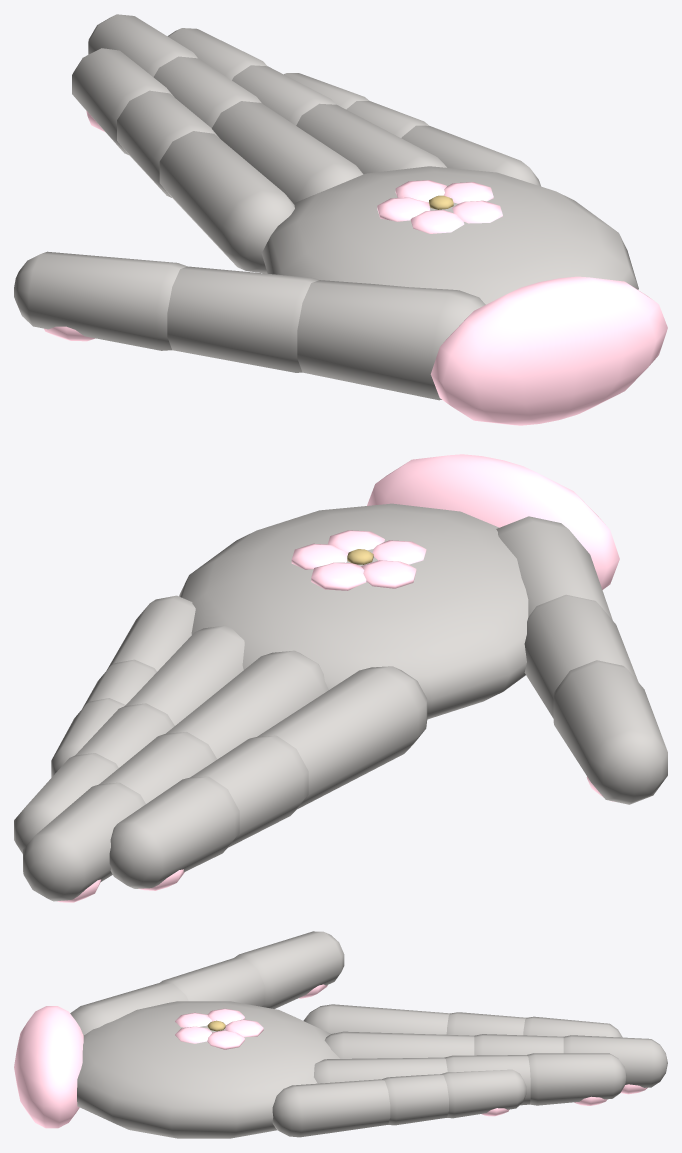
Rendered from cafe-hand.glb.
3 views of the same model, one above another, from view 1: azimuth 30°, elevation 25°; view 2: azimuth 150°, elevation 25°; view 3: azimuth 270°, elevation 25° (orthographic). The views are drawn at different scales.
Parts seen in each view (by area): view 1: wrist, thumb-metacarpal, thumb-phalanx-distal, thumb-phalanx-proximal, index-finger-phalanx-proximal, middle-finger-phalanx-proximal, ring-finger-phalanx-proximal, index-finger-phalanx-intermediate, index-finger-phalanx-distal, middle-finger-phalanx-intermediate, middle-finger-phalanx-distal, pinky-finger-phalanx-proximal (+4 smaller); view 2: wrist, index-finger-phalanx-proximal, thumb-phalanx-distal, index-finger-phalanx-distal, middle-finger-phalanx-proximal, middle-finger-phalanx-distal, thumb-phalanx-proximal, index-finger-phalanx-intermediate, thumb-metacarpal, ring-finger-phalanx-proximal, middle-finger-phalanx-intermediate, ring-finger-phalanx-distal (+4 smaller); view 3: wrist, pinky-finger-phalanx-proximal, thumb-phalanx-distal, ring-finger-phalanx-distal, middle-finger-phalanx-proximal, index-finger-phalanx-proximal, thumb-phalanx-proximal, pinky-finger-phalanx-distal, middle-finger-phalanx-distal, pinky-finger-phalanx-intermediate, ring-finger-phalanx-proximal, thumb-metacarpal (+4 smaller).
Boxes of the visible parts, x1,y1,x2,y2 form: wrist: (261,166,667,425); thumb-metacarpal: (297,280,485,400); thumb-phalanx-distal: (14,251,187,350); thumb-phalanx-proximal: (167,266,319,372); index-finger-phalanx-proximal: (159,131,294,273); middle-finger-phalanx-proximal: (212,101,363,203); ring-finger-phalanx-proximal: (296,103,446,174); index-finger-phalanx-intermediate: (117,90,219,197); index-finger-phalanx-distal: (72,48,173,154); middle-finger-phalanx-intermediate: (153,56,261,128); middle-finger-phalanx-distal: (88,14,197,76); pinky-finger-phalanx-proximal: (401,125,540,186); wrist: (179,454,619,719); index-finger-phalanx-proximal: (258,666,427,809); thumb-phalanx-distal: (553,660,667,804); index-finger-phalanx-distal: (109,776,239,888); middle-finger-phalanx-proximal: (166,650,328,759); middle-finger-phalanx-distal: (23,782,145,901); thumb-phalanx-proximal: (524,594,638,718); index-finger-phalanx-intermediate: (190,735,308,847); thumb-metacarpal: (496,516,612,620); ring-finger-phalanx-proximal: (125,625,244,725); middle-finger-phalanx-intermediate: (99,732,217,803); ring-finger-phalanx-distal: (14,753,118,853); wrist: (14,1001,339,1138); pinky-finger-phalanx-proximal: (272,1079,390,1137); thumb-phalanx-distal: (234,931,344,1008); ring-finger-phalanx-distal: (527,1053,626,1105); middle-finger-phalanx-proximal: (324,1031,474,1058); index-finger-phalanx-proximal: (303,1004,449,1034); thumb-phalanx-proximal: (160,958,265,1006); pinky-finger-phalanx-distal: (441,1069,526,1118); middle-finger-phalanx-distal: (563,1035,667,1087); pinky-finger-phalanx-intermediate: (382,1074,448,1125); ring-finger-phalanx-proximal: (314,1057,447,1083); thumb-metacarpal: (70,983,188,1035).
Bounding box in the file's own units: 0.1313 × 0.0339 × 0.2065.
